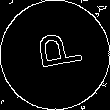P_W: (27, 32, 83, 78)
